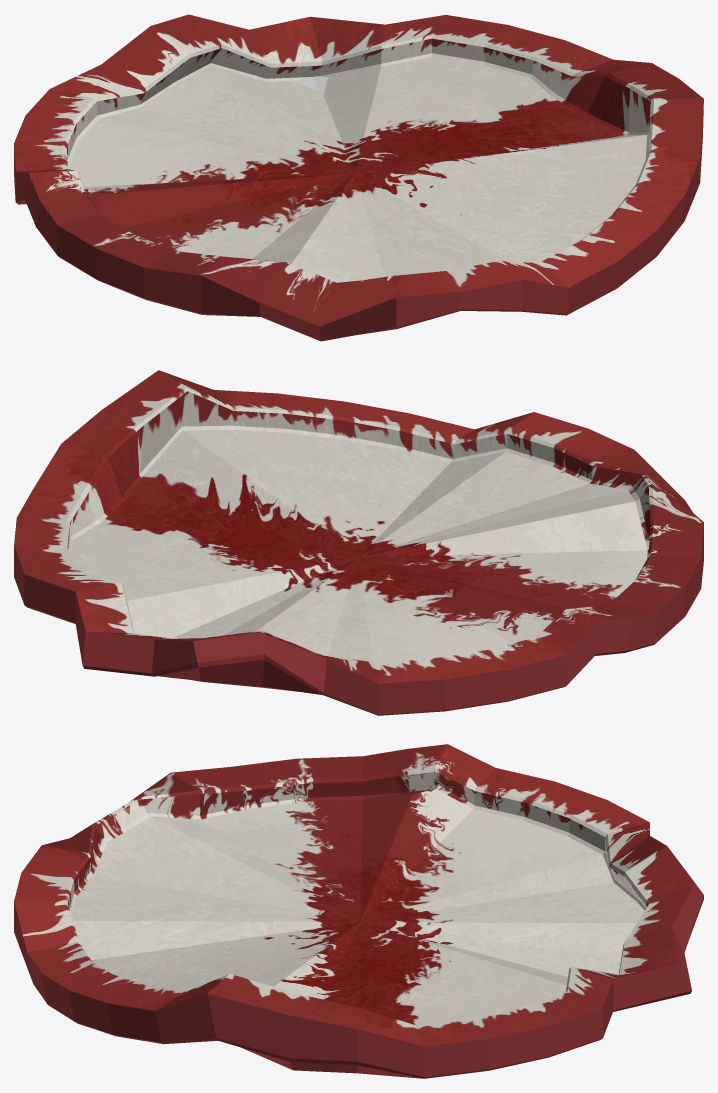
3 views of the same model, one above another, from view 1: azimuth 30°, elevation 25°; view 2: azimuth 150°, elevation 25°; view 3: azimuth 270°, elevation 25° (orthographic).
Visible parts, largest first — view 1: Cylinder.086; view 2: Cylinder.086; view 3: Cylinder.086.
Boxes of the visible parts, x1=… form: Cylinder.086: x1=14, y1=14, x2=703, y2=341; Cylinder.086: x1=14, y1=370, x2=703, y2=715; Cylinder.086: x1=14, y1=744, x2=703, y2=1078.
Size of the model in its own units: 200 by 32.84 by 199.
3 materials, 1 textured.
